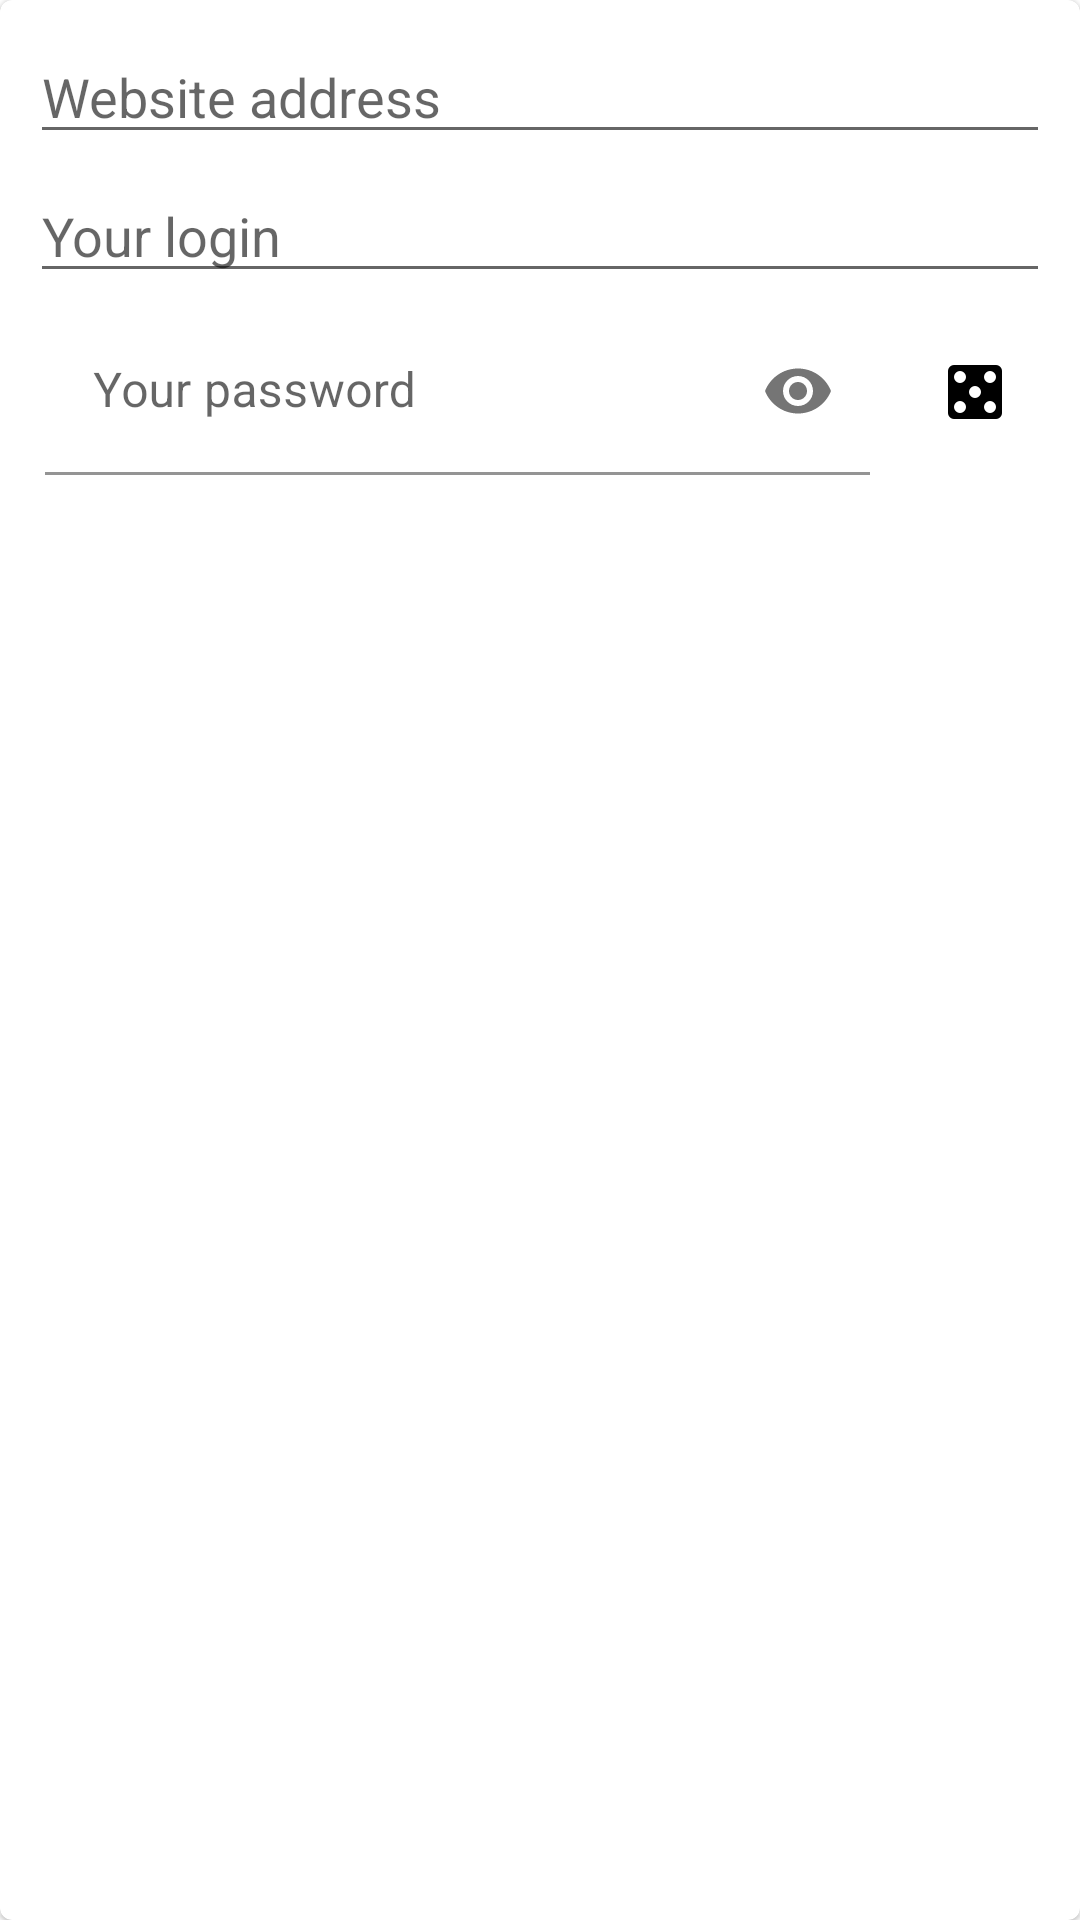

Screen size 1080px x 1920px. Icon name, then its center in pixels as (x=x, y=y):
random: (x=975, y=392)
